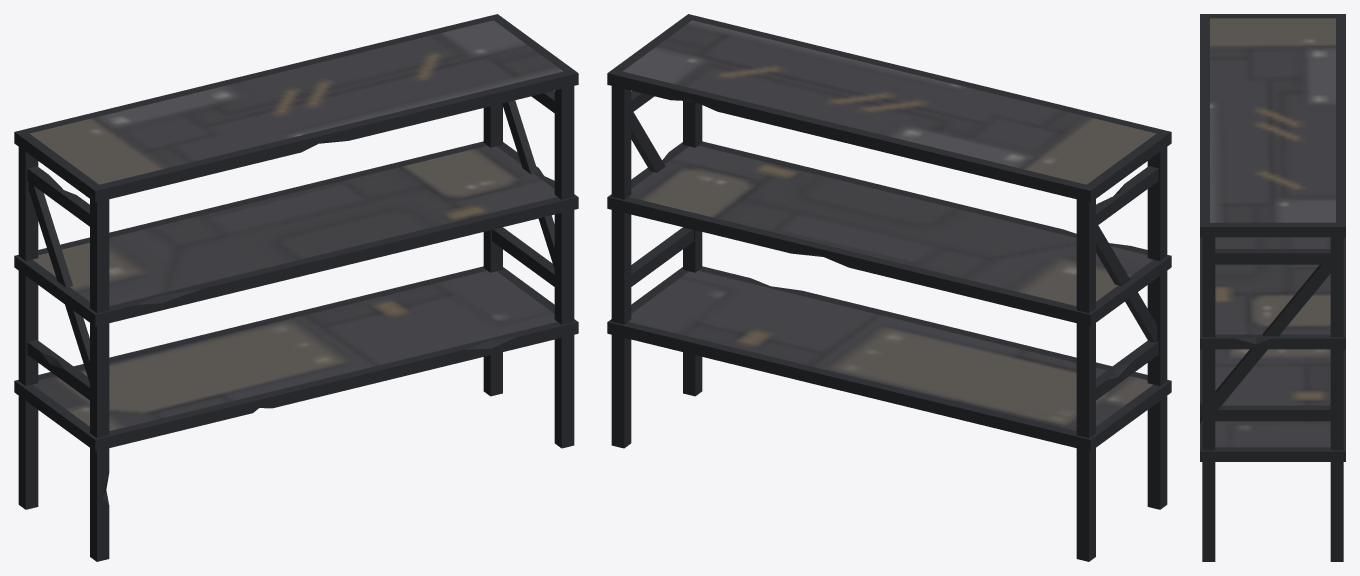
Rendered from SM_Prop_Shelf_03.fbx.
3 renders of one model, left to right at view 1: azimuth 30°, elevation 25°; view 2: azimuth 150°, elevation 25°; view 3: azimuth 270°, elevation 25°, orthographic. The views are drawn at different scales.
Parts seen in each view (by area): view 1: SM_Prop_Shelf_03; view 2: SM_Prop_Shelf_03; view 3: SM_Prop_Shelf_03.
Part boxes in pixels (box(x1,y1,x2,y2)): SM_Prop_Shelf_03: box(14, 14, 578, 561); SM_Prop_Shelf_03: box(607, 14, 1171, 561); SM_Prop_Shelf_03: box(1200, 14, 1345, 561).
Bounding box in the file's own units: 196 × 144 × 56.74.
